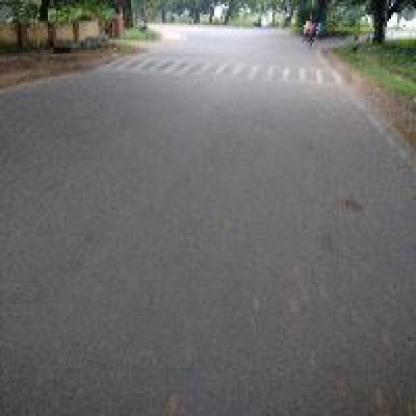Speed Bump: (87, 52, 341, 87)
